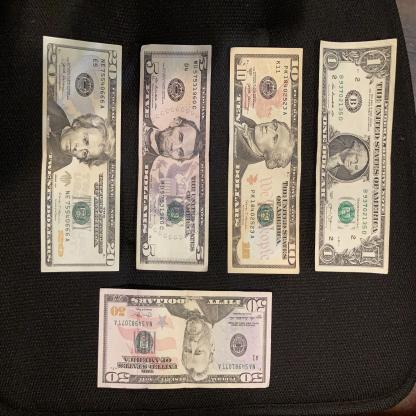fifty-front: (97, 288, 273, 389)
five-front: (135, 43, 213, 272)
one-front: (314, 38, 398, 274)
ten-front: (227, 47, 304, 274)
twenty-front: (40, 36, 123, 272)
